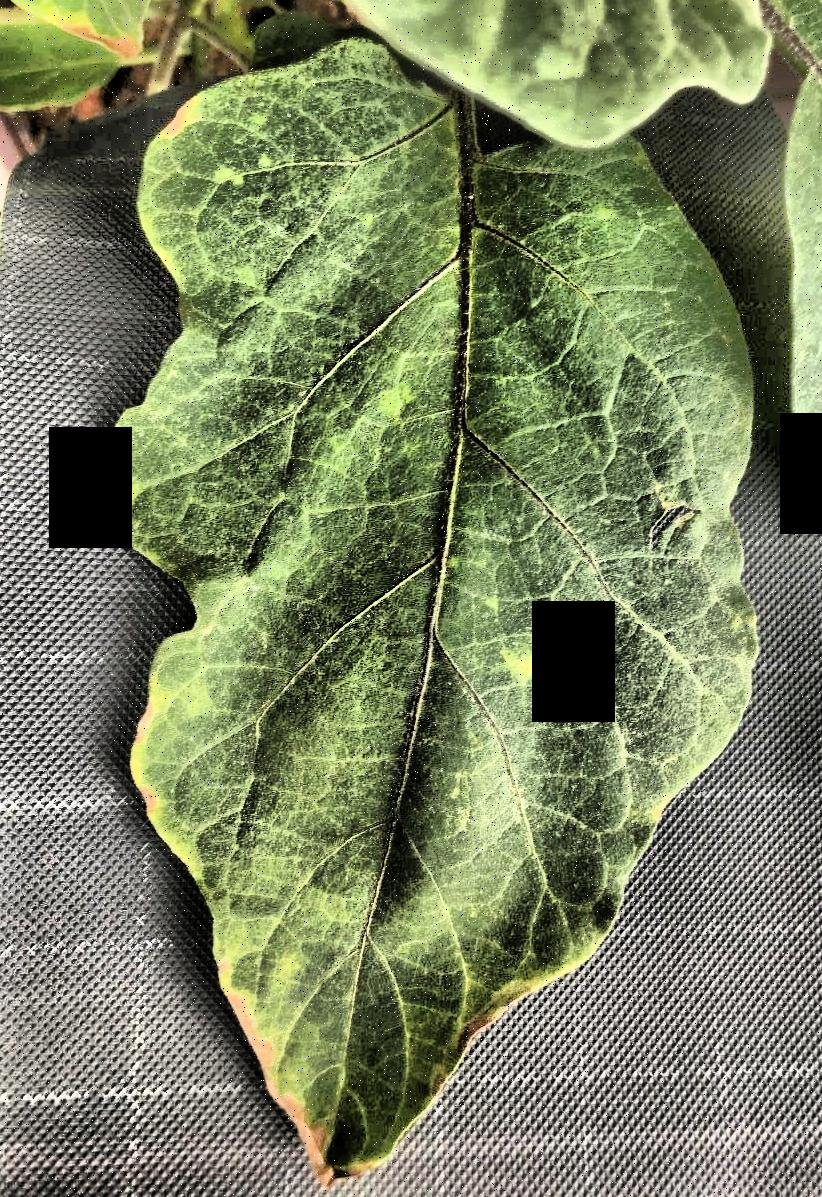Non-critical Stress: (1, 0, 822, 1197)
